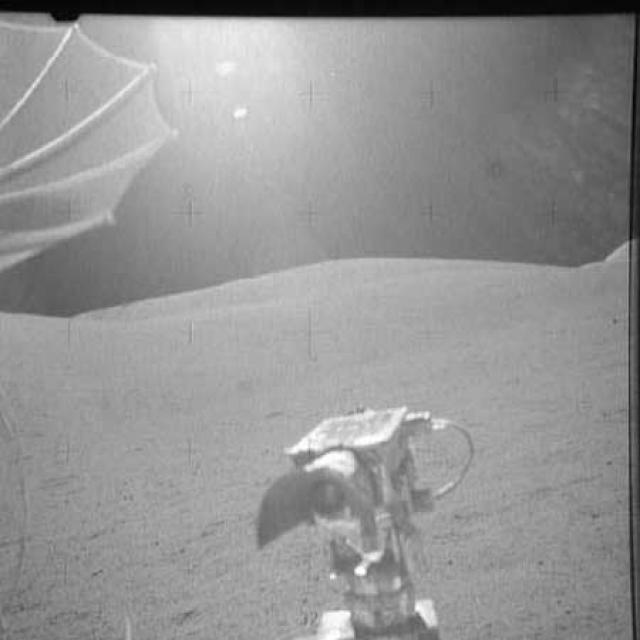artifact: (232, 384, 499, 639), (0, 16, 191, 296)
